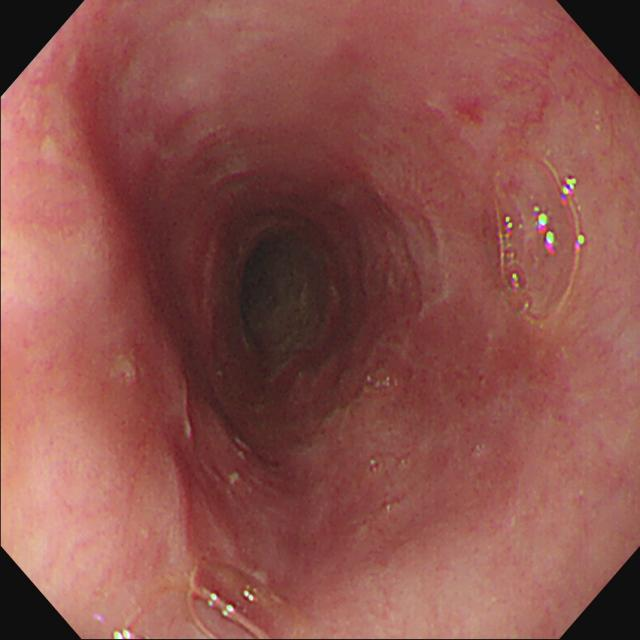E: (242, 236, 330, 345)
T: (496, 158, 588, 331), (117, 559, 294, 640)
U: (532, 204, 557, 257), (558, 175, 577, 206)
